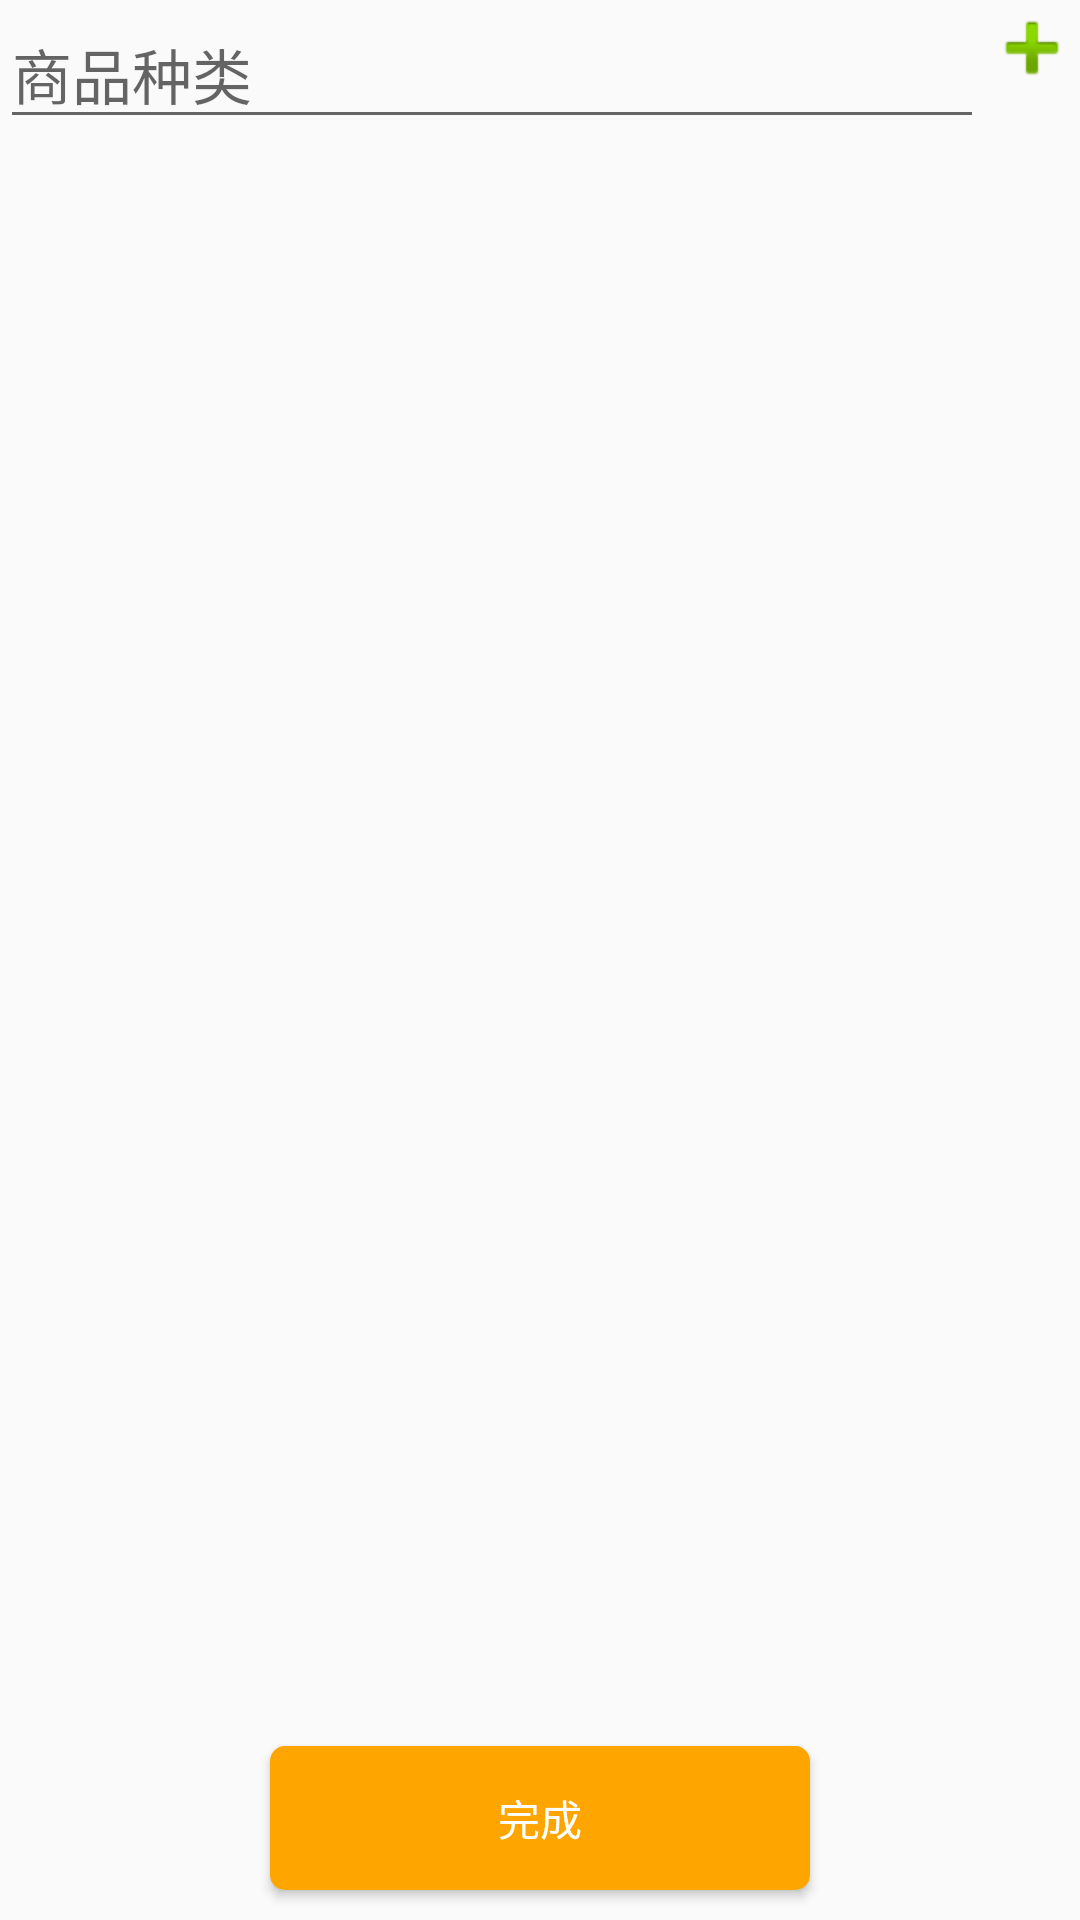

Screen size 1080 × 1920. Icon name, then its center in pixels as (x,y):
add: (1032,48)
